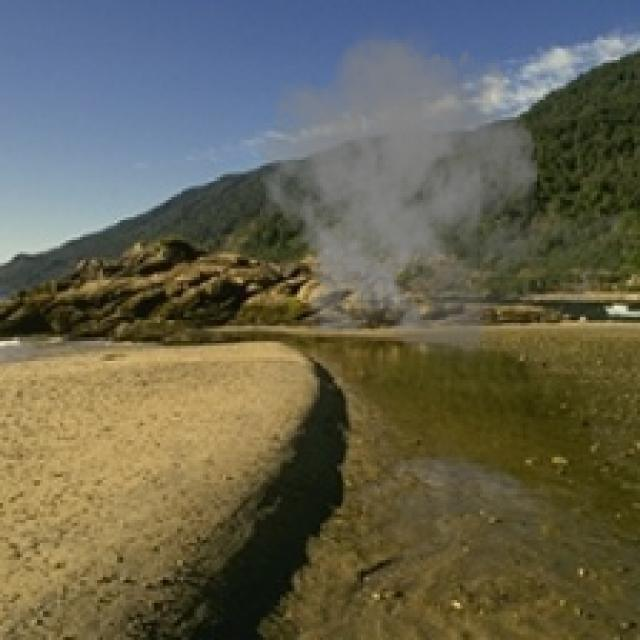Smoke: (252, 12, 637, 377)
